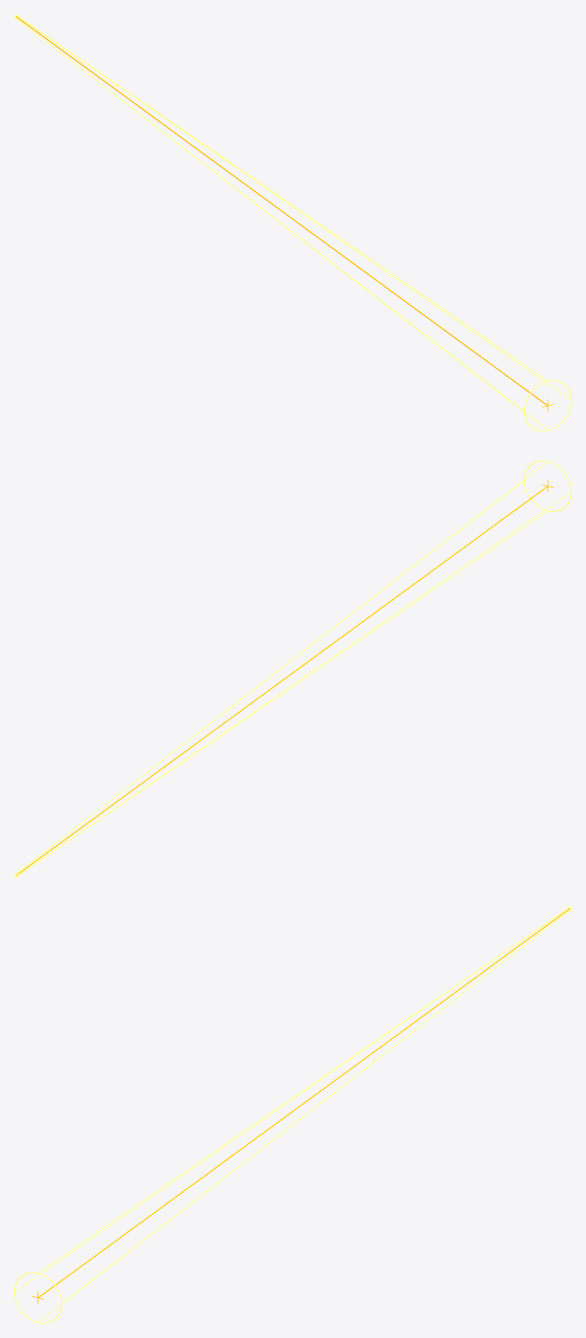
The model's file is nadir_beam_igso.glb.
The picture shows the model from 3 angles, top to bottom: view 1: azimuth 30°, elevation 25°; view 2: azimuth 150°, elevation 25°; view 3: azimuth 330°, elevation 25°; orthographic projection.
Parts seen in each view (by area): view 1: HolographicNadirCageNode; view 2: HolographicNadirCageNode; view 3: HolographicNadirCageNode.
Part boxes in pixels (x1,y1,x2,y2): HolographicNadirCageNode: (14, 14, 571, 431); HolographicNadirCageNode: (14, 460, 571, 877); HolographicNadirCageNode: (14, 906, 571, 1323).
Bounding box in the file's own units: 2.35 × 2.35 × 45.04.
